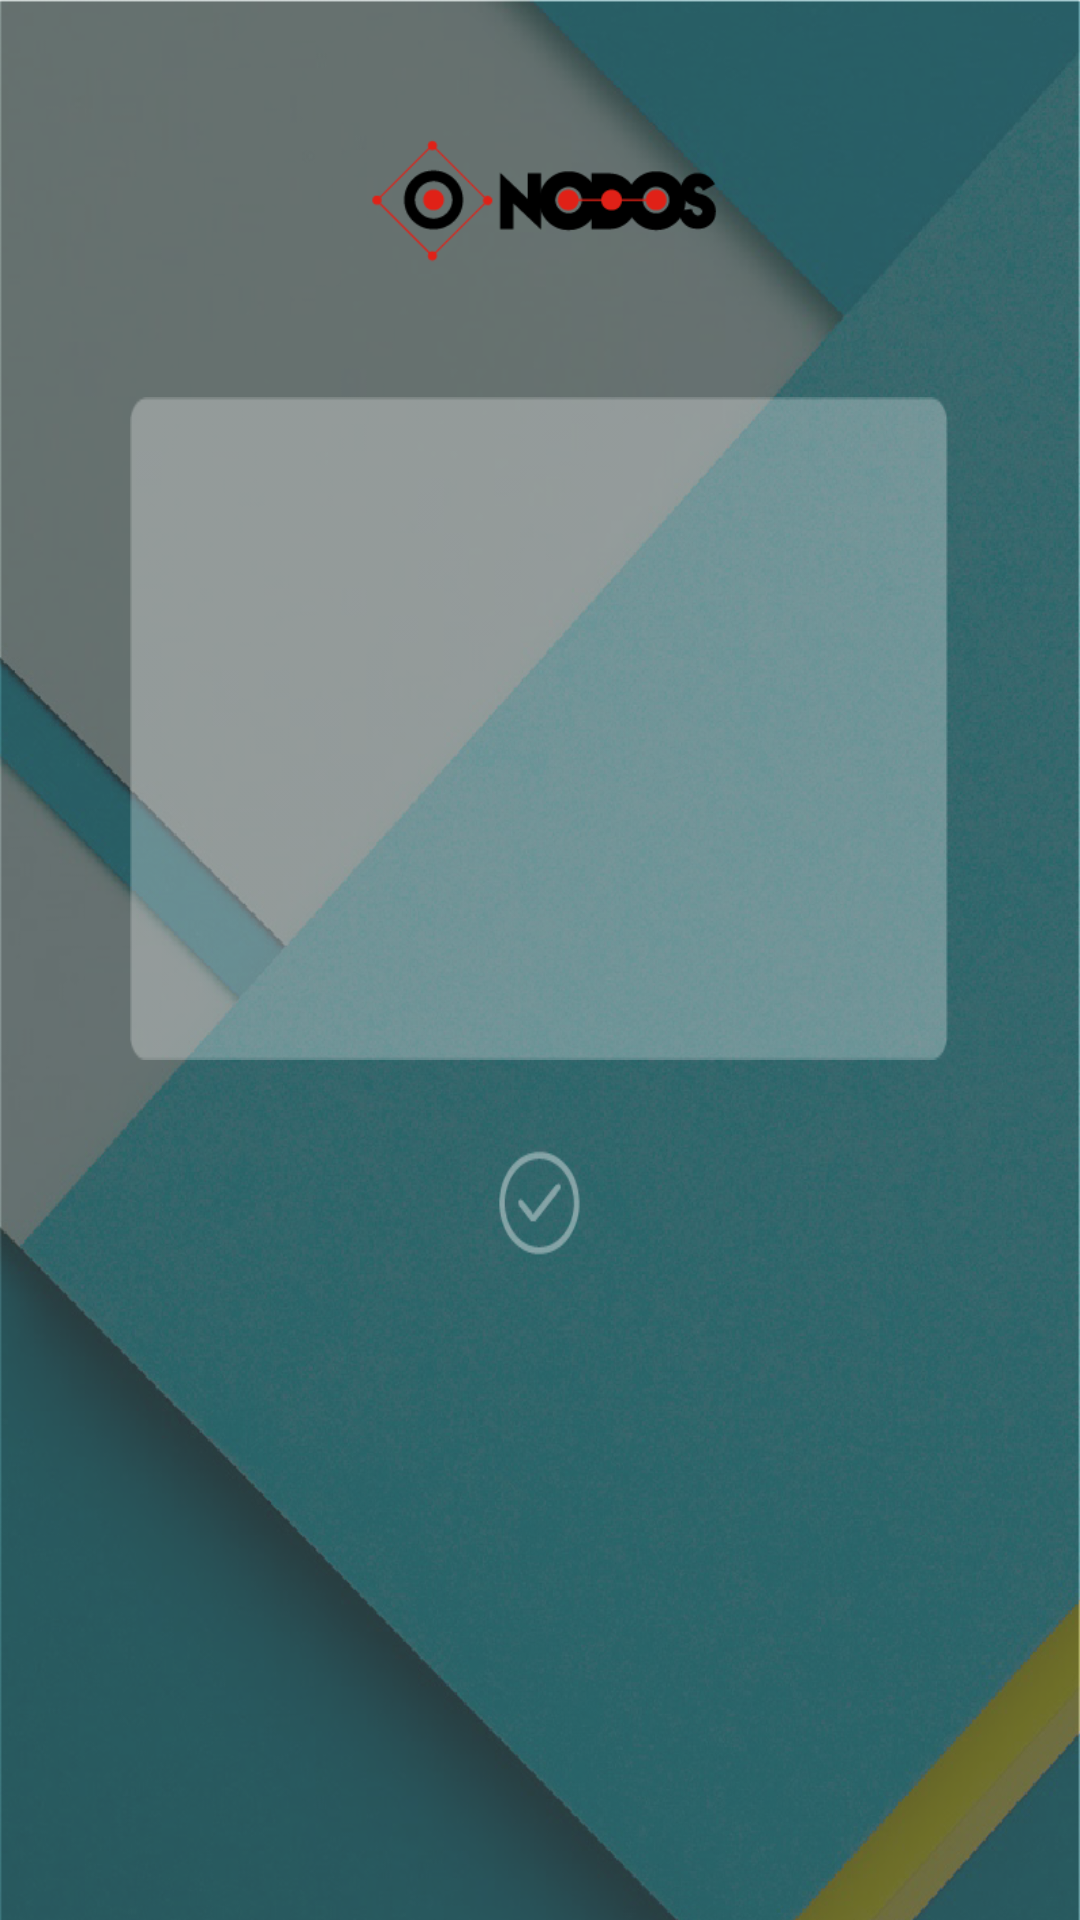

Icons on this 1080 × 1920 Android screen, each with the point to tap as (x=x, y=y):
verificar: (x=539, y=1202)
